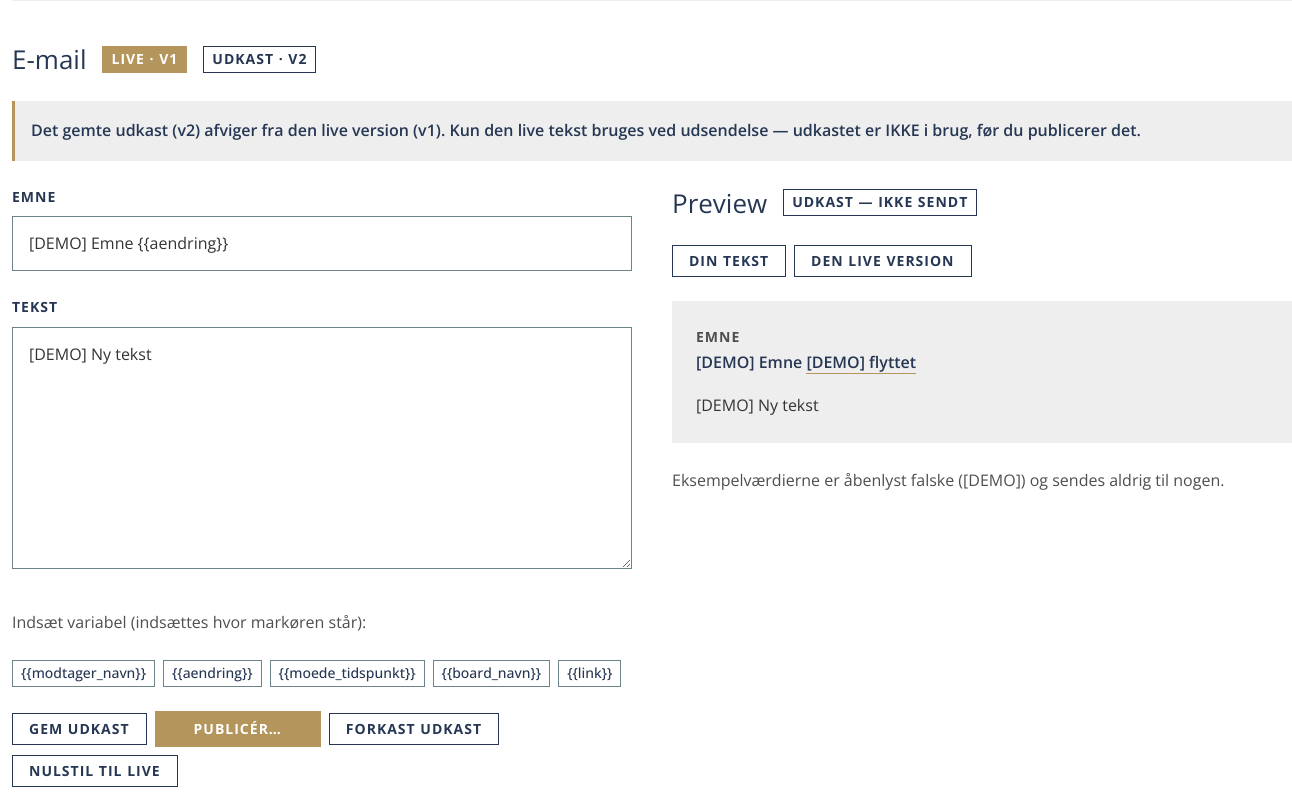
TemplateEditor — handlinger › Forkast udkast findes kun når der er et udkast, og nulstiller felterne til live
This screenshot has width=1292, height=800.
Check: the text box labelled "Tekst" holds "[DEMO] Ny tekst", box top-left (12, 327), bottom-right (632, 569)
Click the button "Forkast udkast": (414,729) top-left (329, 713), bottom-right (499, 745)
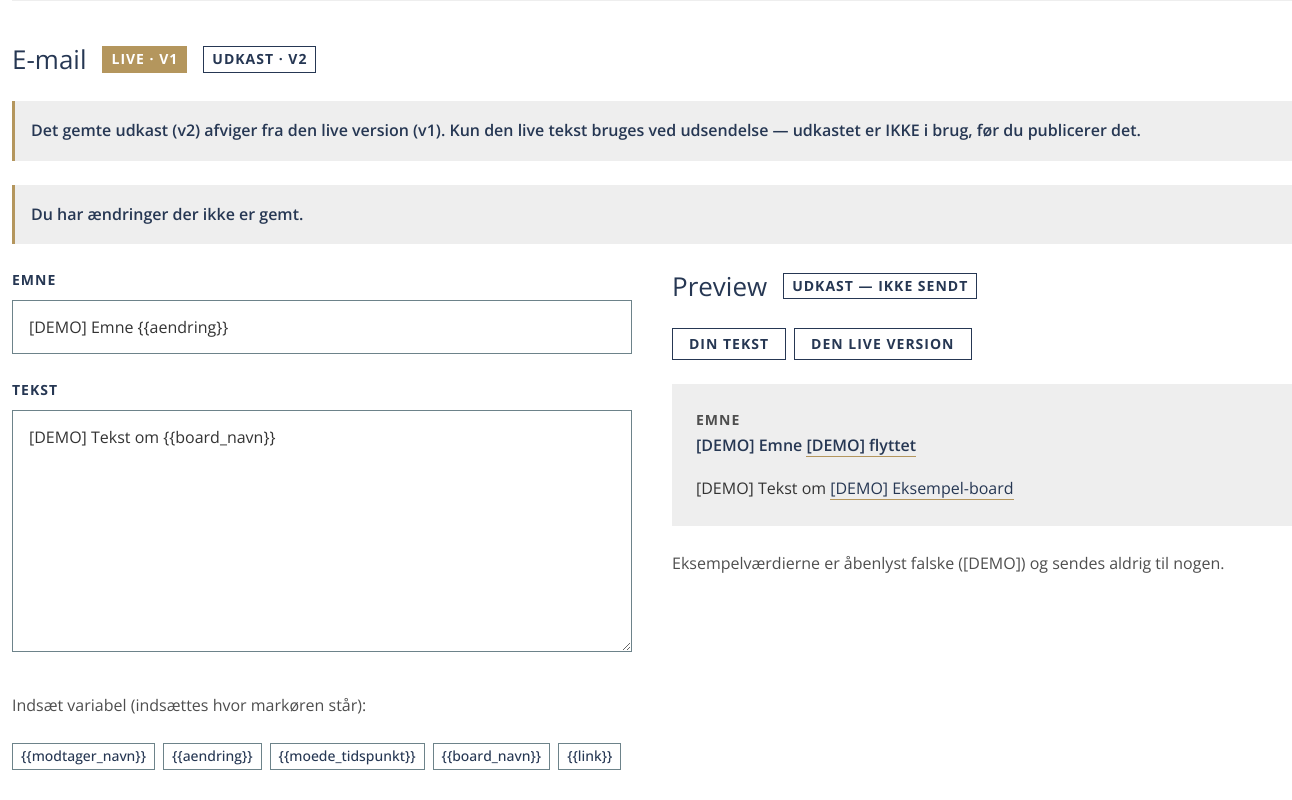
Check: the text box labelled "Tekst" holds "[DEMO] Tekst om {{board_navn}}", box top-left (12, 410), bottom-right (632, 652)
